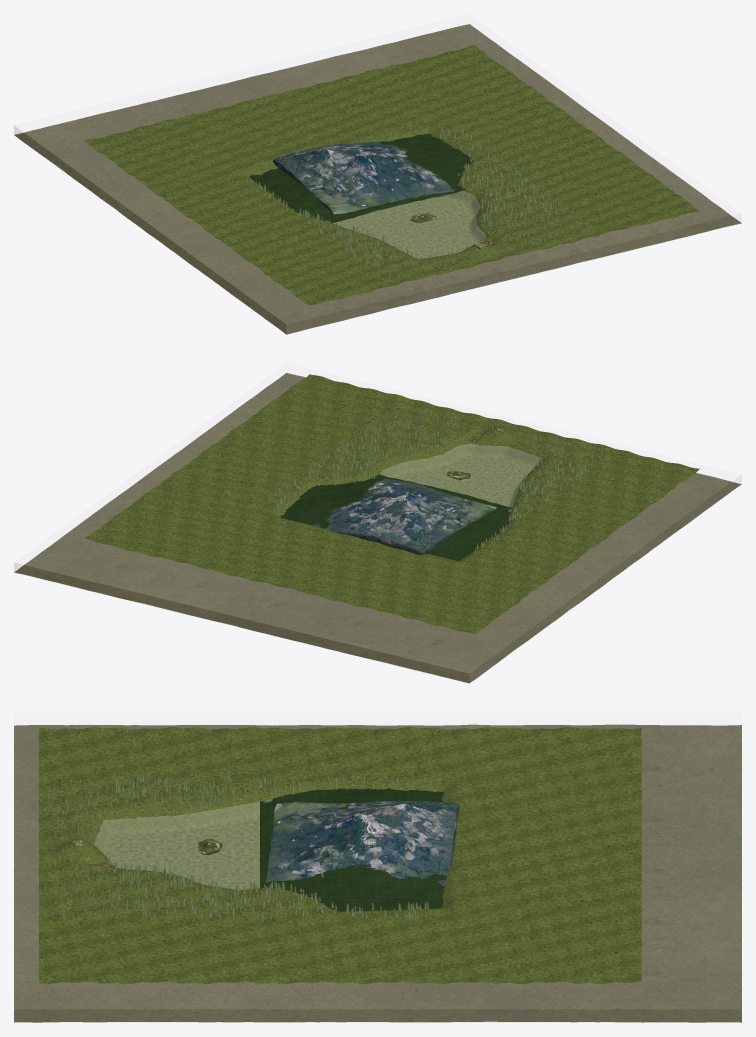
Rendered from IMANTAU-restored.glb.
3 views of the same model, one above another, from view 1: azimuth 30°, elevation 25°; view 2: azimuth 150°, elevation 25°; view 3: azimuth 270°, elevation 25° (orthographic). The views are drawn at different scales.
Visible parts, largest first — view 1: Forested Shore, Blue Lake, lake_basin_ground, pack_object_0000, mountain_foot_ground, shore_pines_1, shore_pines_0; view 2: Forested Shore, Blue Lake, lake_basin_ground, pack_object_0000, mountain_foot_ground, shore_pines_1, shore_pines_0; view 3: Forested Shore, Blue Lake, lake_basin_ground, pack_object_0000, mountain_foot_ground, shore_pines_1, shore_pines_0.
Boxes of the visible parts, bbox=[...] form: Forested Shore: bbox=[84, 45, 699, 305]; Blue Lake: bbox=[14, 14, 741, 334]; lake_basin_ground: bbox=[14, 24, 741, 334]; pack_object_0000: bbox=[273, 140, 455, 214]; mountain_foot_ground: bbox=[249, 133, 472, 223]; shore_pines_1: bbox=[246, 127, 590, 277]; shore_pines_0: bbox=[250, 126, 591, 280]; Forested Shore: bbox=[84, 374, 699, 633]; Blue Lake: bbox=[14, 363, 741, 683]; lake_basin_ground: bbox=[14, 373, 741, 683]; pack_object_0000: bbox=[312, 478, 496, 555]; mountain_foot_ground: bbox=[280, 474, 512, 560]; shore_pines_1: bbox=[268, 402, 607, 555]; shore_pines_0: bbox=[266, 402, 609, 553]; Forested Shore: bbox=[39, 727, 641, 983]; Blue Lake: bbox=[14, 712, 741, 1022]; lake_basin_ground: bbox=[14, 724, 741, 1022]; pack_object_0000: bbox=[265, 801, 459, 885]; mountain_foot_ground: bbox=[260, 788, 446, 911]; shore_pines_1: bbox=[51, 773, 426, 918]; shore_pines_0: bbox=[51, 775, 428, 919].
Size of the model in its own units: 28 by 2.03 by 29.
16 materials, 15 textured.
